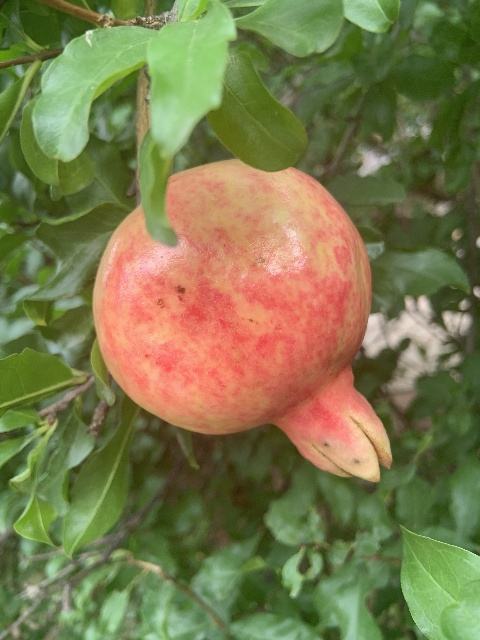ripe: (92, 157, 392, 483)
